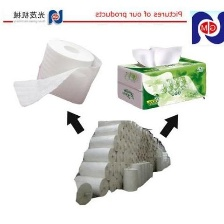tissue: (69, 113, 177, 209), (9, 33, 108, 112), (114, 51, 211, 112), (128, 40, 187, 70)
